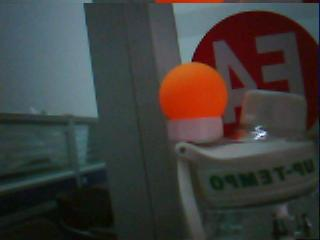oball: (160, 62, 227, 118)
